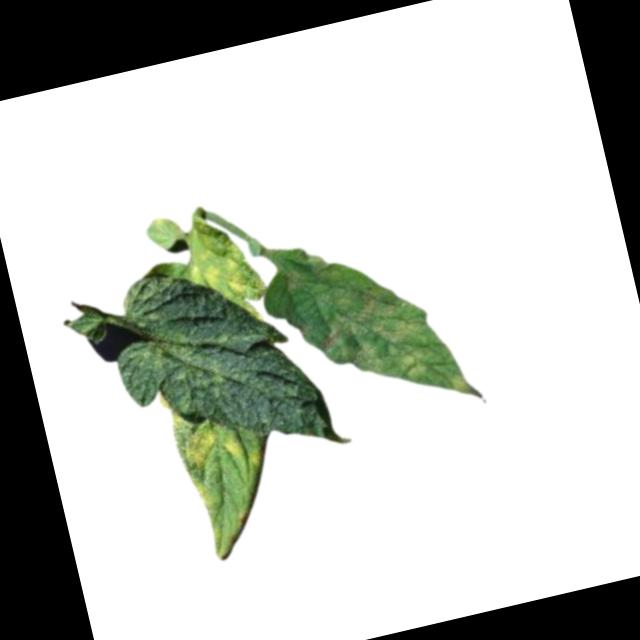Leaf_Mold: (293, 216, 479, 435), (177, 217, 268, 330), (173, 415, 246, 474), (190, 477, 225, 512), (245, 448, 267, 474)
